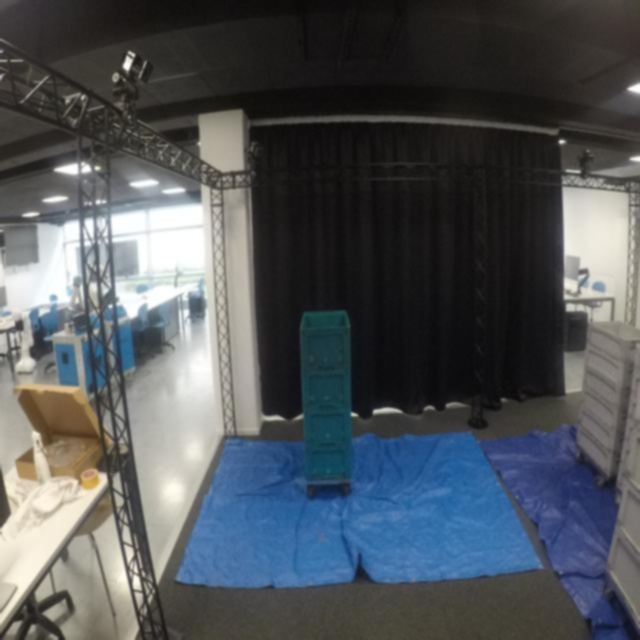BoxB4: (296, 304, 356, 372), (296, 364, 353, 407), (302, 445, 353, 486), (301, 408, 350, 449)
